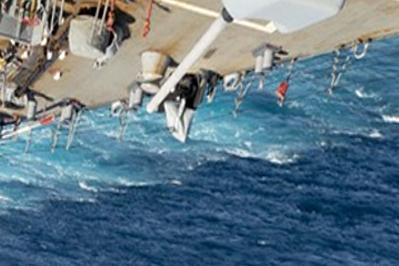rust: (356, 26, 392, 50), (151, 35, 186, 58), (75, 1, 142, 11)
